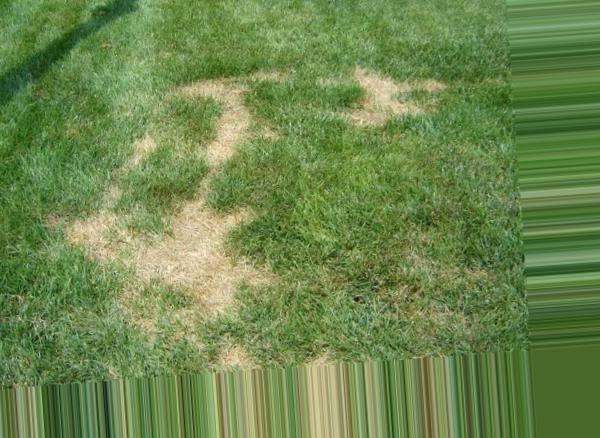patch: (174, 215, 211, 285), (218, 257, 251, 288), (137, 240, 164, 267), (82, 211, 108, 229), (231, 106, 238, 133)
